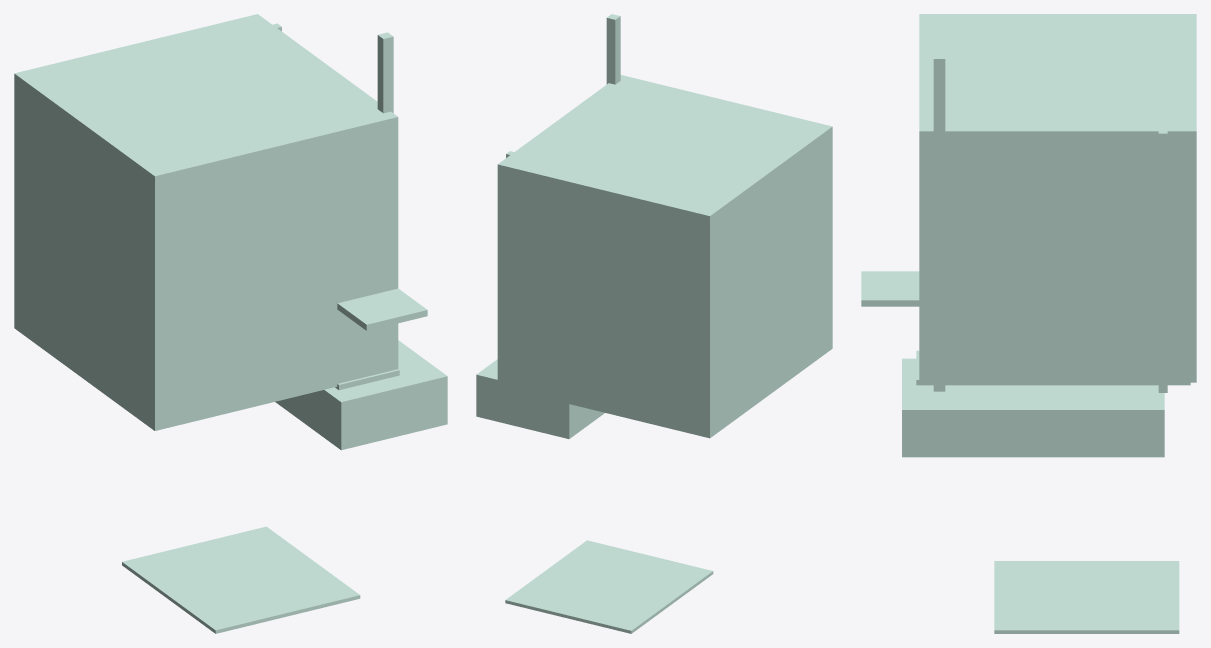
The picture shows the model from 3 angles, left to right: view 1: azimuth 30°, elevation 25°; view 2: azimuth 150°, elevation 25°; view 3: azimuth 270°, elevation 25°; orthographic projection. The views are drawn at different scales.
Visible parts, largest first — view 1: Renderer Node; view 2: Renderer Node; view 3: Renderer Node.
Boxes of the visible parts, x1,y1,x2,y2 form: Renderer Node: (14, 14, 447, 633); Renderer Node: (476, 14, 832, 633); Renderer Node: (861, 14, 1196, 633).
Size of the model in its own units: 0.875 by 1.72 by 0.9063.
